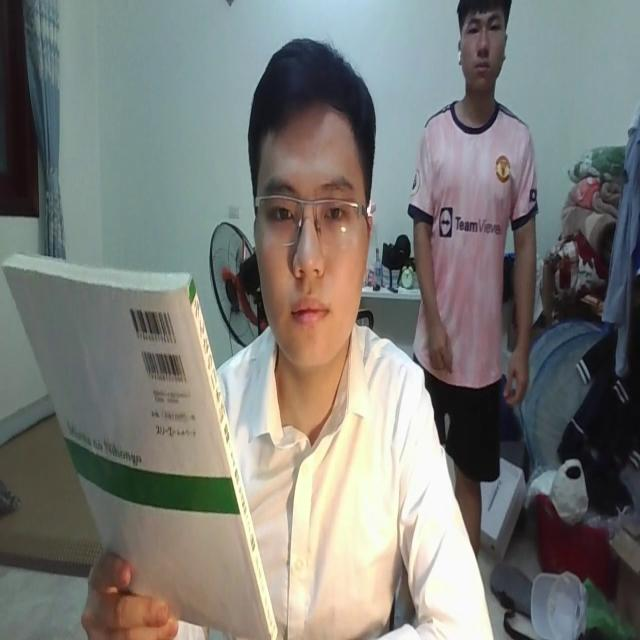book: (4, 243, 279, 640)
extra_person: (410, 0, 539, 528)
student: (206, 34, 491, 640)
